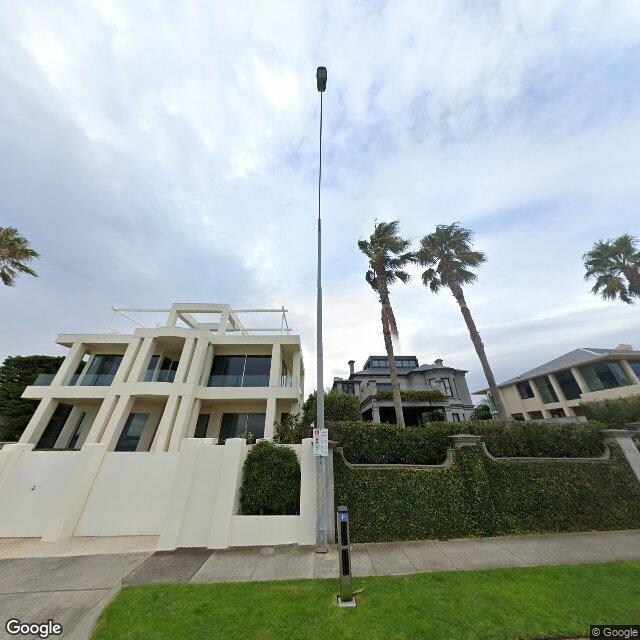steel-pole: (315, 218, 328, 554)
streetlight: (316, 66, 328, 235)
